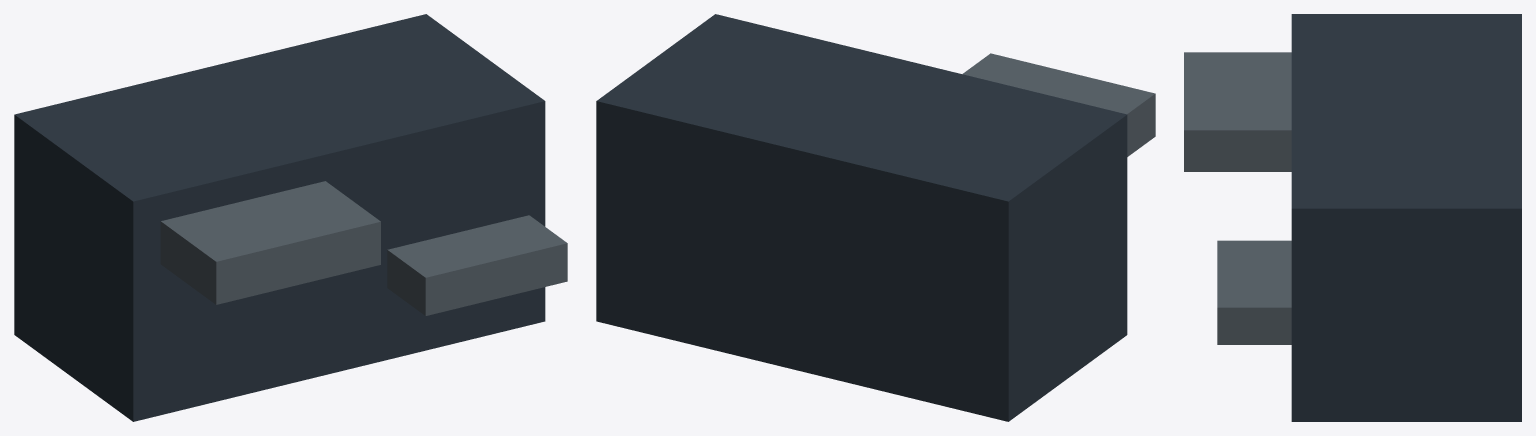
The model's file is prop.ransacked_drawers.glb.
3 renders of one model, left to right at view 1: azimuth 30°, elevation 25°; view 2: azimuth 150°, elevation 25°; view 3: azimuth 270°, elevation 25°, orthographic. The views are drawn at different scales.
Parts seen in each view (by area): view 1: cabinet_body, open_drawer_a, open_drawer_b; view 2: cabinet_body, open_drawer_a; view 3: cabinet_body, open_drawer_a, open_drawer_b.
Boxes of the visible parts, x1,y1,x2,y2 form: cabinet_body: (14,14,545,421); open_drawer_a: (160,181,380,304); open_drawer_b: (387,215,567,315); cabinet_body: (596,14,1127,421); open_drawer_a: (962,53,1155,156); cabinet_body: (1291,14,1521,421); open_drawer_a: (1184,52,1291,171); open_drawer_b: (1217,240,1291,344).
Size of the model in its own units: 1.8 by 0.92 by 1.32.
